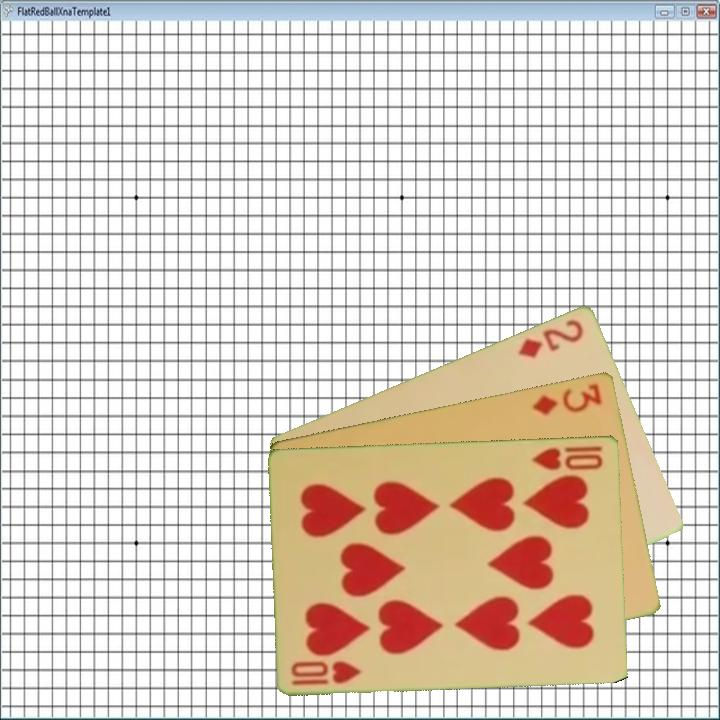10h: (528, 442, 606, 473), (288, 657, 365, 688)
2d: (514, 315, 587, 361)
3d: (529, 379, 605, 418)
